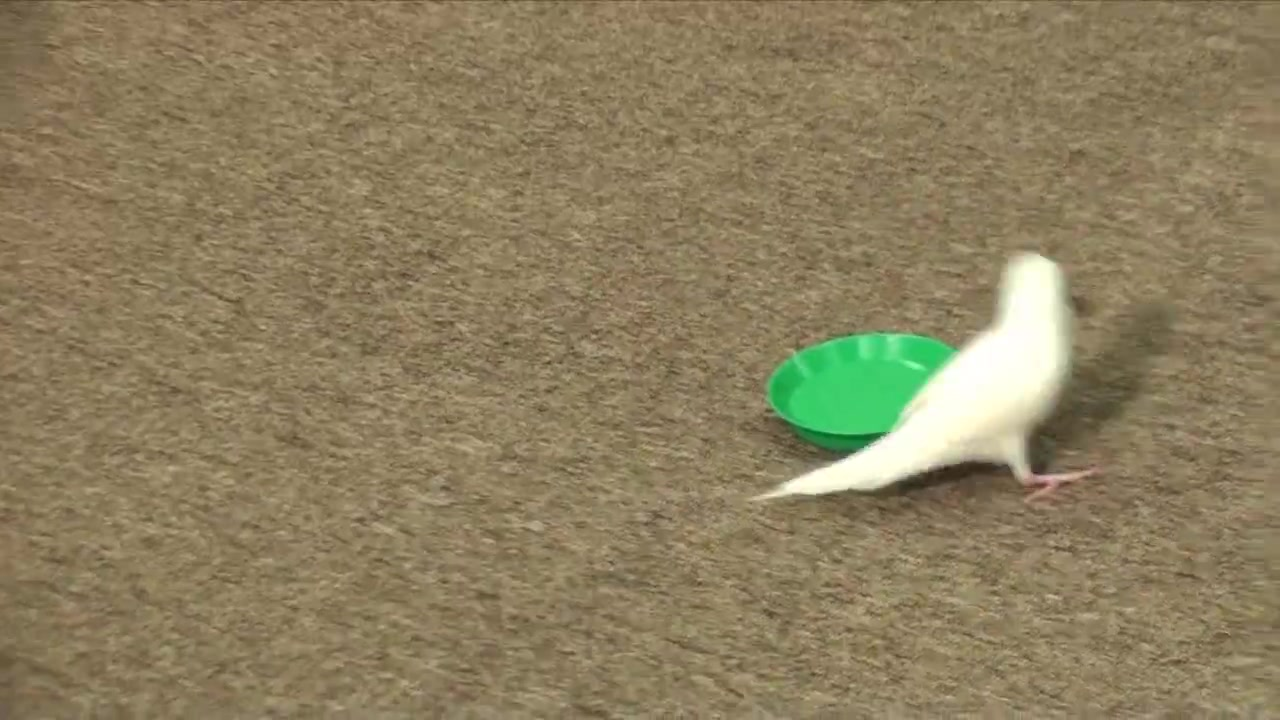bird: (751, 255, 1098, 504)
